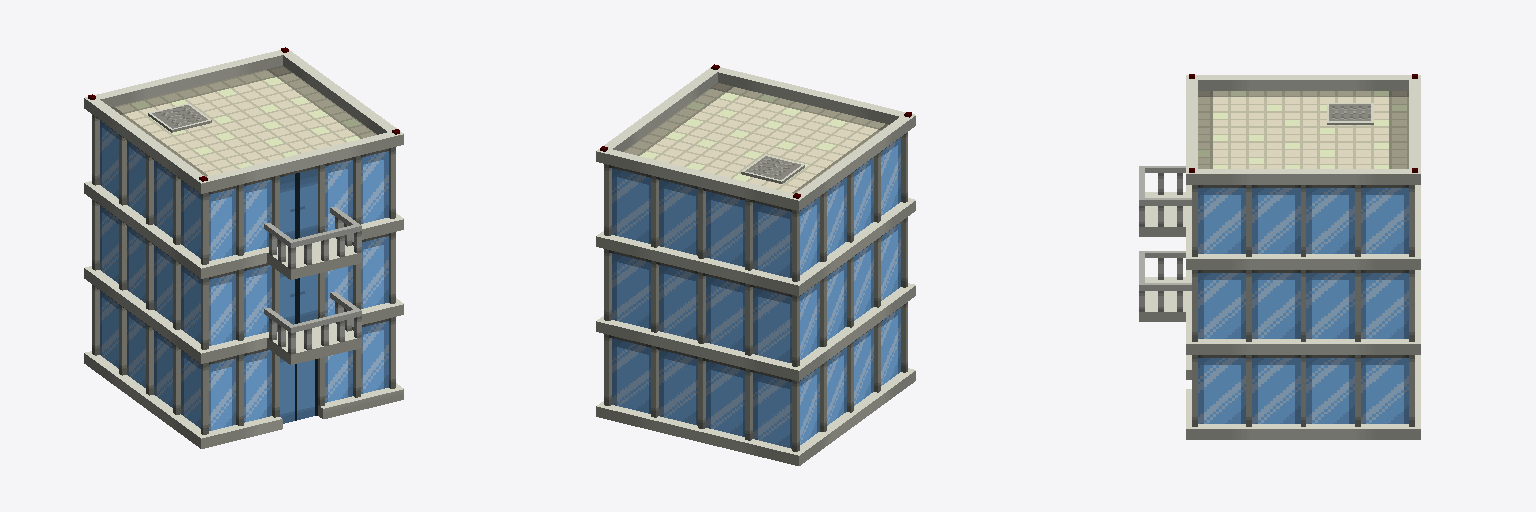
The picture shows the model from 3 angles: view 1: azimuth 30°, elevation 25°; view 2: azimuth 150°, elevation 25°; view 3: azimuth 270°, elevation 25°; orthographic projection.
Parts seen in each view (by area): view 1: Cube.119_Cube.008, Cube.115_Cube.004, Cube.117_Cube.004, Cube.138_Cube.012, Cube.118_Cube.003, Cube.116_Cube.003, Cube.041_Cube.003, Cube.080_Cube.003, Cube.012_Cube.003, Cube.136_Cube.011, Cube.126_Cube.011, Cube.128_Cube.011 (+28 smaller); view 2: Cube.119_Cube.008, Cube.117_Cube.004, Cube.040_Cube.004, Cube.014_Cube.004, Cube.079_Cube.004, Cube.115_Cube.004, Cube.174_Cube.016, Cube.165_Cube.016, Cube.167_Cube.016, Cube.170_Cube.016, Cube.171_Cube.016, Cube.172_Cube.016 (+28 smaller); view 3: Cube.119_Cube.008, Cube.116_Cube.003, Cube.118_Cube.003, Cube.013_Cube.003, Cube.042_Cube.003, Cube.078_Cube.003, Cube.141_Cube.015, Cube.143_Cube.015, Cube.146_Cube.015, Cube.147_Cube.015, Cube.150_Cube.015, Cube.151_Cube.015 (+16 smaller).
Boxes of the visible parts, box(x1,y1,x2,y2) form: Cube.119_Cube.008: box(111, 66, 376, 176); Cube.115_Cube.004: box(195, 131, 403, 193); Cube.117_Cube.004: box(84, 50, 292, 111); Cube.138_Cube.012: box(280, 168, 317, 239); Cube.118_Cube.003: box(90, 100, 203, 188); Cube.116_Cube.003: box(283, 53, 396, 134); Cube.041_Cube.003: box(90, 270, 200, 358); Cube.080_Cube.003: box(90, 185, 200, 273); Cube.012_Cube.003: box(90, 355, 200, 443); Cube.136_Cube.011: box(361, 151, 388, 223); Cube.126_Cube.011: box(244, 350, 271, 422); Cube.128_Cube.011: box(361, 321, 388, 393); Cube.119_Cube.008: box(624, 83, 888, 193); Cube.117_Cube.004: box(596, 149, 804, 210); Cube.040_Cube.004: box(596, 317, 804, 380); Cube.014_Cube.004: box(596, 402, 804, 465); Cube.079_Cube.004: box(596, 232, 804, 295); Cube.115_Cube.004: box(708, 67, 915, 128); Cube.174_Cube.016: box(706, 191, 744, 266); Cube.165_Cube.016: box(706, 361, 744, 436); Cube.167_Cube.016: box(659, 350, 697, 425); Cube.170_Cube.016: box(706, 276, 744, 351); Cube.171_Cube.016: box(659, 265, 697, 340); Cube.172_Cube.016: box(612, 253, 650, 328); Cube.119_Cube.008: box(1198, 91, 1408, 168); Cube.116_Cube.003: box(1198, 169, 1408, 184); Cube.118_Cube.003: box(1198, 75, 1408, 90); Cube.013_Cube.003: box(1198, 424, 1408, 439); Cube.042_Cube.003: box(1198, 339, 1408, 354); Cube.078_Cube.003: box(1198, 254, 1408, 269); Cube.141_Cube.015: box(1252, 358, 1300, 423); Cube.143_Cube.015: box(1306, 358, 1354, 423); Cube.146_Cube.015: box(1252, 273, 1300, 338); Cube.147_Cube.015: box(1306, 273, 1354, 338); Cube.150_Cube.015: box(1252, 188, 1300, 253); Cube.151_Cube.015: box(1306, 188, 1354, 253).
Size of the model in its own units: 4 by 5.05 by 4.8.
21 materials, 21 textured.